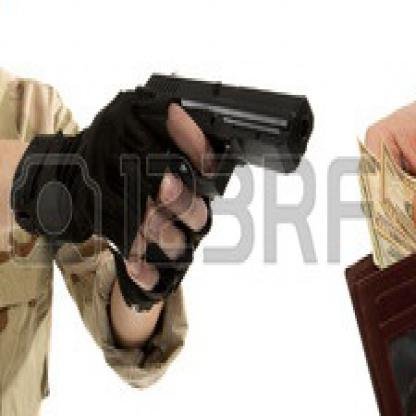gun: (115, 64, 312, 285)
